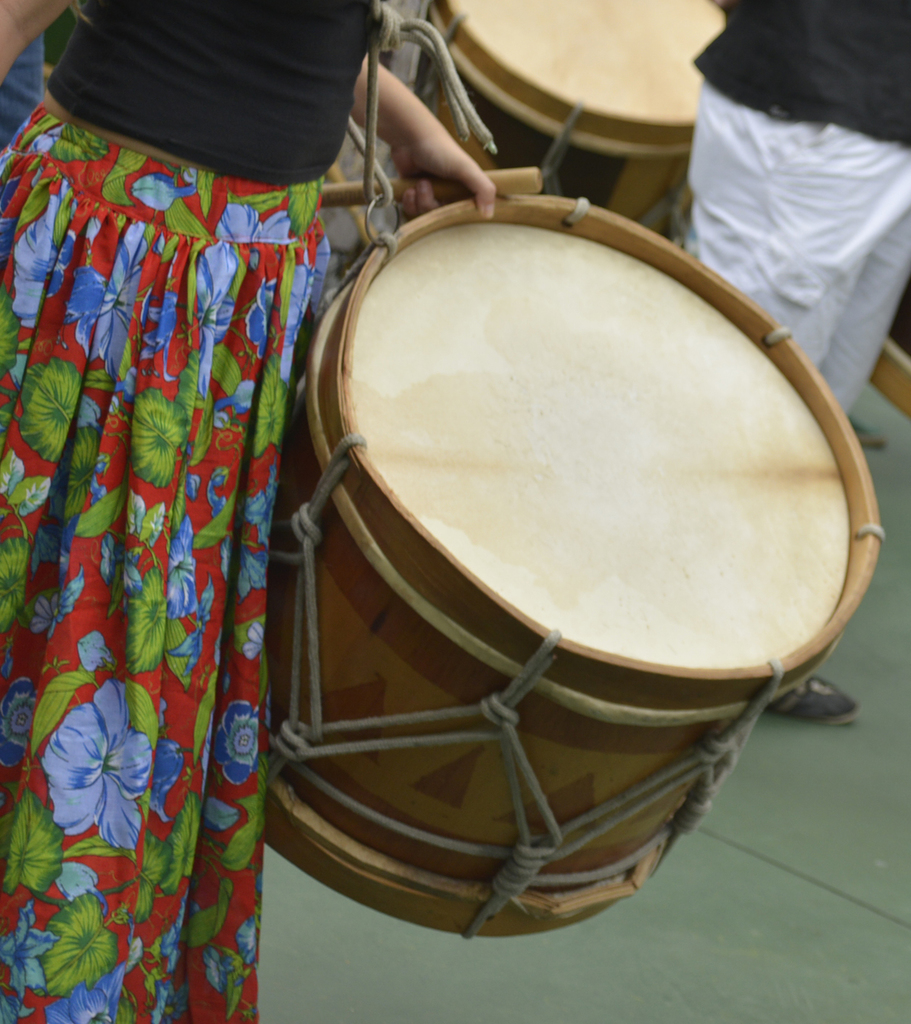Person: (0, 0, 497, 1024), (684, 0, 911, 726)
